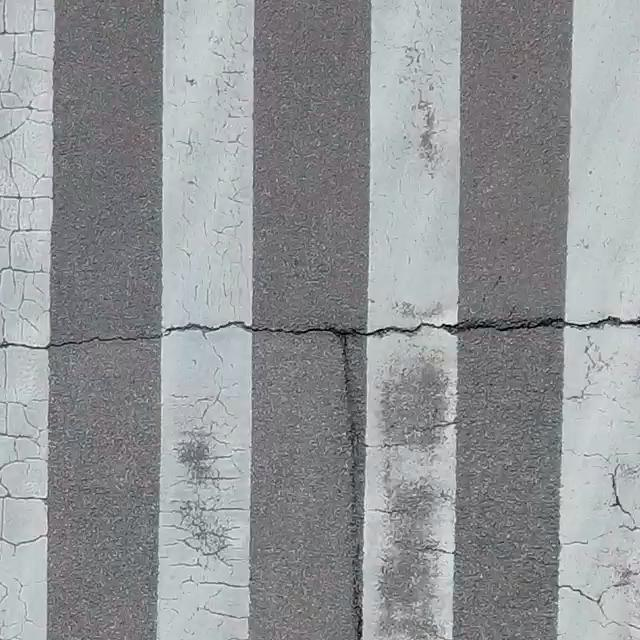GRIETA: (1, 316, 639, 350), (340, 338, 365, 639)
PIEL DE COCODRILO: (155, 374, 257, 626), (0, 0, 59, 331), (563, 442, 639, 639), (0, 391, 55, 557)
